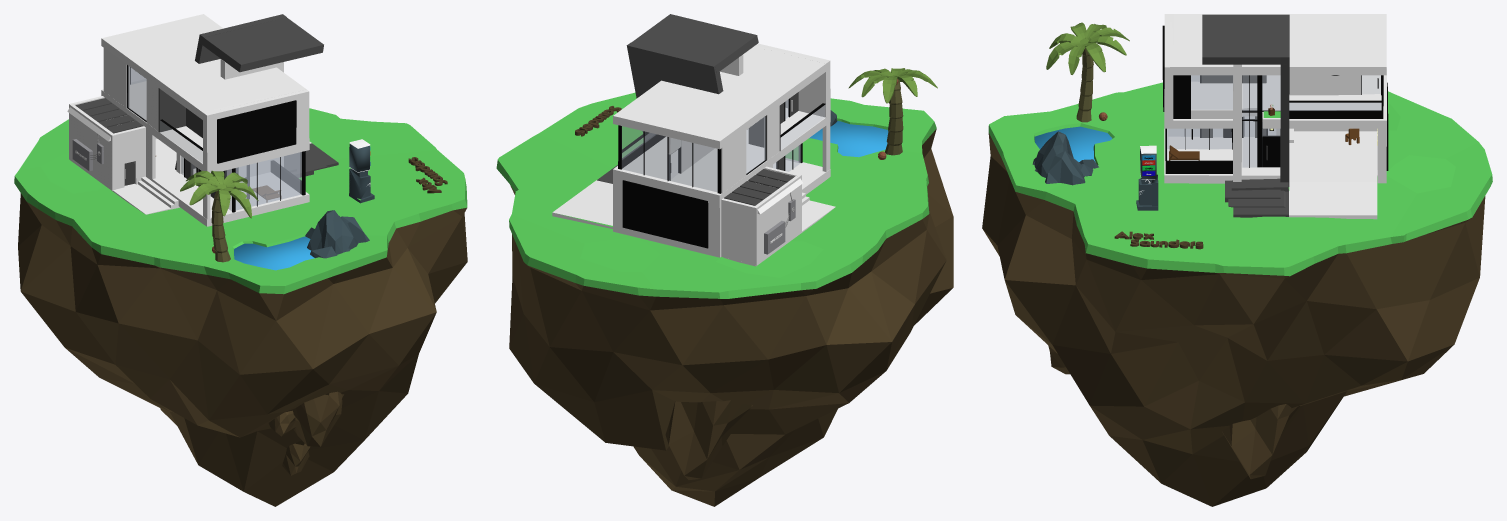
Rendered from alxisland90.glb.
3 views of the same model, side by side, from view 1: azimuth 30°, elevation 25°; view 2: azimuth 150°, elevation 25°; view 3: azimuth 270°, elevation 25° (orthographic). The views are drawn at different scales.
Visible parts, largest first — view 1: ISLAND, BASE, BASE.002, ABOUTMESCREEN, GLASS5.015, Cube.031, ROCK3, LEAFS, Liquid Domain, Cube.033, GLASS5.005, Cube.036 (+14 smaller); view 2: ISLAND, BASE, ROCK5, CREDITSSCREEN, GLASS5.003, BASE.002, BASE.003, Cube.032, Cube.031, BASE.005, Liquid Domain, LEAFS (+9 smaller); view 3: ISLAND, BASE, BASE.005, BASE.002, ROCK5.001, Cube, LEAFS, BASE.003, Cube.026, GLASS5.010, GLASS5.009, GLASS5.002 (+14 smaller).
Boxes of the visible parts, x1,y1,x2,y2 form: ISLAND: [14, 108, 467, 506]; BASE: [101, 14, 309, 226]; BASE.002: [199, 17, 323, 72]; ABOUTMESCREEN: [217, 100, 296, 163]; GLASS5.015: [235, 152, 301, 209]; Cube.031: [69, 104, 115, 190]; ROCK3: [293, 391, 343, 446]; LEAFS: [180, 170, 258, 218]; Liquid Domain: [234, 236, 314, 270]; Cube.033: [111, 126, 145, 189]; GLASS5.005: [235, 152, 301, 210]; Cube.036: [70, 160, 179, 214]; ISLAND: [496, 92, 953, 506]; BASE: [613, 43, 830, 257]; ROCK5: [665, 400, 752, 479]; CREDITSSCREEN: [622, 180, 708, 248]; GLASS5.003: [622, 126, 717, 191]; BASE.002: [632, 14, 758, 73]; BASE.003: [626, 42, 723, 140]; Cube.032: [721, 198, 757, 264]; Cube.031: [755, 174, 801, 265]; BASE.005: [552, 180, 612, 228]; Liquid Domain: [809, 121, 888, 157]; LEAFS: [848, 68, 937, 103]; ISLAND: [982, 82, 1492, 506]; BASE: [1164, 14, 1386, 183]; BASE.005: [1289, 131, 1377, 219]; BASE.002: [1202, 14, 1286, 64]; ROCK5.001: [1222, 404, 1299, 479]; Cube: [1225, 178, 1288, 217]; LEAFS: [1046, 22, 1129, 74]; BASE.003: [1280, 14, 1289, 186]; Cube.026: [1289, 75, 1360, 95]; GLASS5.010: [1191, 75, 1232, 109]; GLASS5.009: [1167, 129, 1231, 149]; GLASS5.002: [1242, 75, 1256, 167].
Size of the model in its own units: 105 by 117 by 115.
